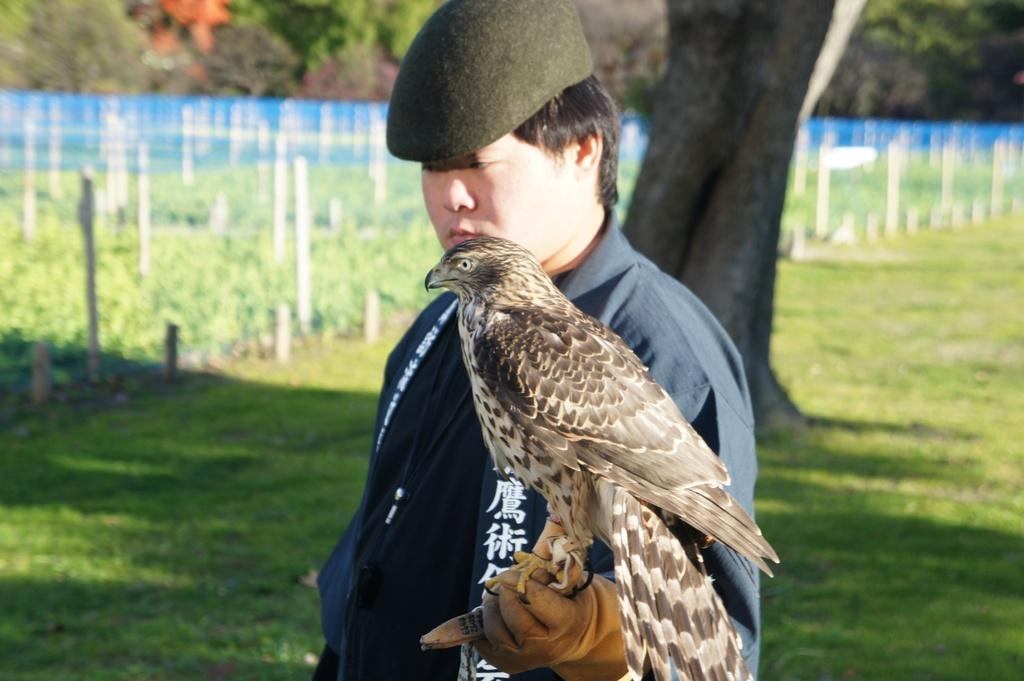Hat: (386, 0, 591, 165)
